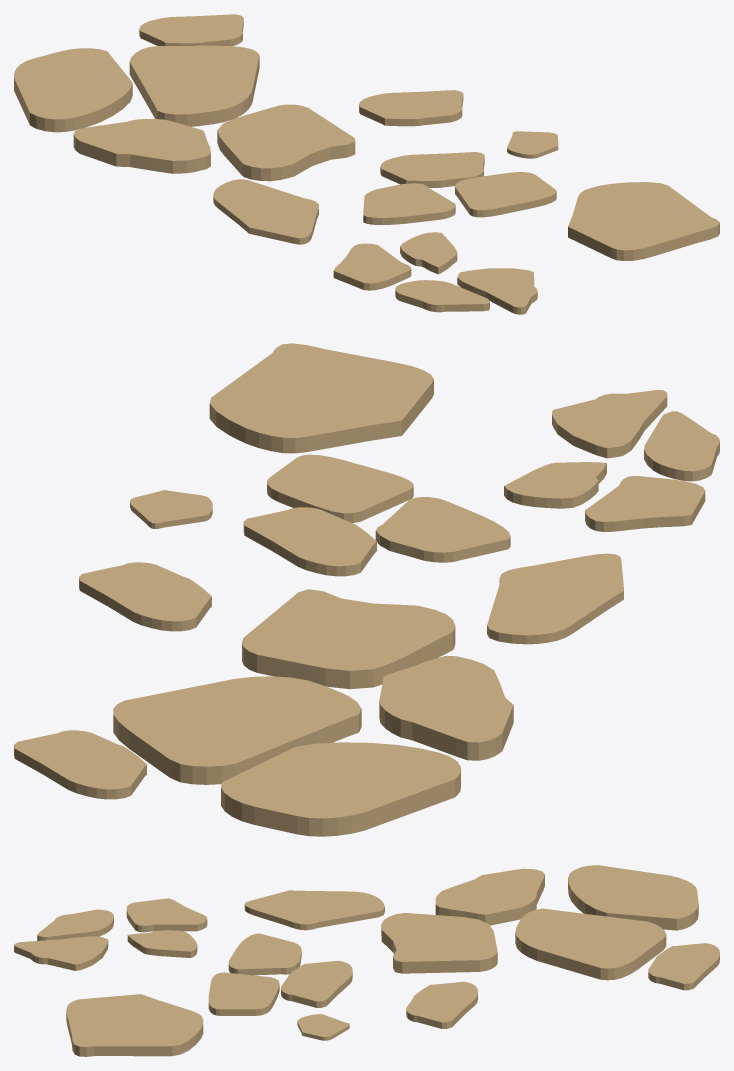
File: Batu Setapak 1.fbx
3 views of the same model, one above another, from view 1: azimuth 30°, elevation 25°; view 2: azimuth 150°, elevation 25°; view 3: azimuth 270°, elevation 25° (orthographic). The views are drawn at different scales.
Visible parts, largest first — view 1: batu setapak; view 2: batu setapak; view 3: batu setapak.
Part boxes in pixels (x1,y1,x2,y2): batu setapak: (14,14,719,314); batu setapak: (14,343,719,836); batu setapak: (14,865,719,1056).
Bounding box in the file's own units: 2191 × 66.3 × 3611.
